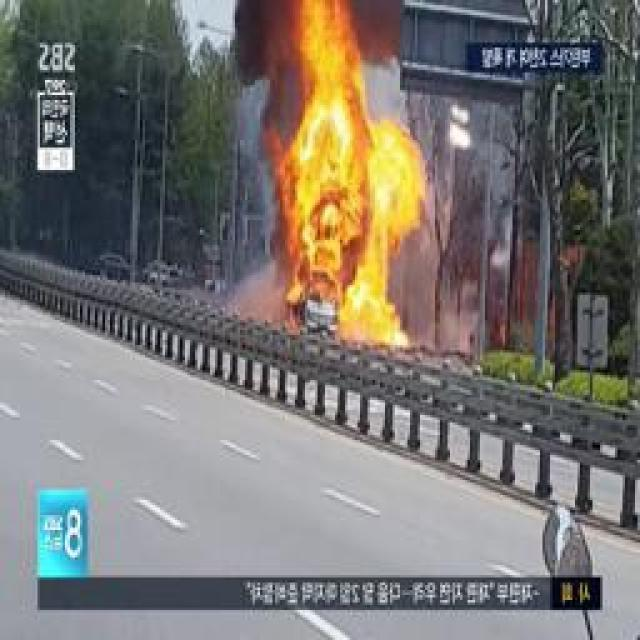Fire: (300, 125, 394, 344), (299, 3, 357, 117), (384, 128, 422, 236)
